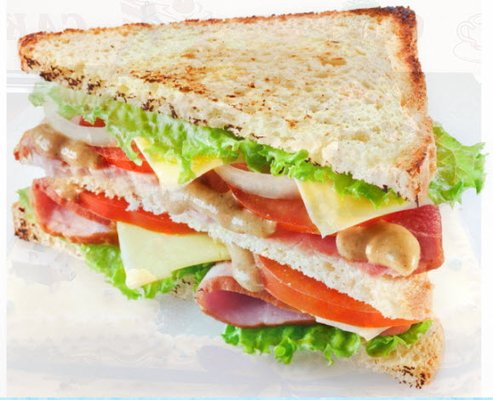soup: (13, 13, 450, 374)
